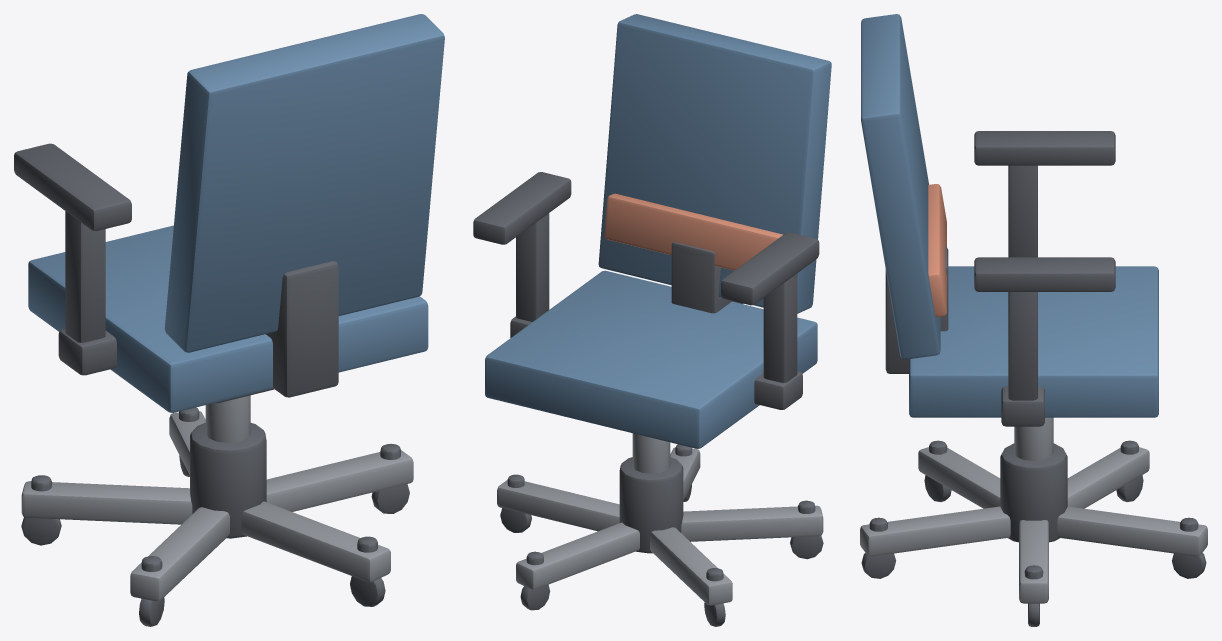
Rendered from th11_buerostuhl.glb.
3 views of the same model, side by side, from view 1: azimuth 30°, elevation 25°; view 2: azimuth 150°, elevation 25°; view 3: azimuth 270°, elevation 25° (orthographic). The views are drawn at different scales.
Parts seen in each view (by area): view 1: Cube.009, Cube.006, Cube.008, Cube.002, Cylinder.010, Cube.004, Cube.013, Cube, Cube.012, Cube.003, Cube.011, Cylinder.011 (+5 smaller); view 2: Cube.009, Cube.006, Cube.010, Cylinder.010, Cube.003, Cube.001, Cube.013, Cube.016, Cube, Cube.012, Cube.015, Cube.008 (+7 smaller); view 3: Cube.006, Cube.009, Cube.013, Cube.016, Cylinder.010, Cube.001, Cube.004, Cube.015, Cube.002, Cube.003, Cube.012, Cube (+6 smaller).
Boxes of the visible parts, x1=… form: Cube.009: x1=164, y1=14, x2=444, y2=352; Cube.006: x1=28, y1=225, x2=428, y2=412; Cube.008: x1=266, y1=261, x2=338, y2=397; Cube.002: x1=21, y1=481, x2=192, y2=524; Cylinder.010: x1=190, y1=423, x2=266, y2=538; Cube.004: x1=241, y1=501, x2=390, y2=581; Cube.013: x1=14, y1=143, x2=131, y2=230; Cube: x1=266, y1=450, x2=413, y2=511; Cube.012: x1=65, y1=211, x2=105, y2=342; Cube.003: x1=130, y1=507, x2=229, y2=601; Cube.011: x1=58, y1=329, x2=116, y2=375; Cylinder.011: x1=205, y1=395, x2=250, y2=442; Cube.009: x1=598, y1=14, x2=831, y2=313; Cube.006: x1=485, y1=270, x2=817, y2=448; Cube.010: x1=604, y1=193, x2=782, y2=270; Cylinder.010: x1=619, y1=457, x2=683, y2=553; Cube.003: x1=681, y1=505, x2=823, y2=541; Cube.001: x1=516, y1=522, x2=639, y2=589; Cube.013: x1=721, y1=232, x2=819, y2=305; Cube.016: x1=473, y1=172, x2=571, y2=244; Cube: x1=497, y1=480, x2=619, y2=531; Cube.012: x1=763, y1=273, x2=797, y2=382; Cube.015: x1=516, y1=213, x2=549, y2=321; Cube.008: x1=671, y1=242, x2=742, y2=313; Cube.006: x1=909, y1=266, x2=1158, y2=417; Cube.009: x1=861, y1=14, x2=940, y2=359; Cube.013: x1=974, y1=131, x2=1115, y2=165; Cube.016: x1=974, y1=257, x2=1115, y2=291; Cylinder.010: x1=1000, y1=443, x2=1067, y2=542; Cube.001: x1=1057, y1=506, x2=1207, y2=556; Cube.004: x1=860, y1=506, x2=1010, y2=556; Cube.015: x1=1008, y1=292, x2=1037, y2=400; Cube.002: x1=1067, y1=447, x2=1149, y2=508; Cube.003: x1=918, y1=447, x2=1000, y2=508; Cube.012: x1=1008, y1=165, x2=1037, y2=257; Cube: x1=1019, y1=520, x2=1048, y2=603.
Bounding box in the file's own units: 0.6444 × 1 × 0.6397.
